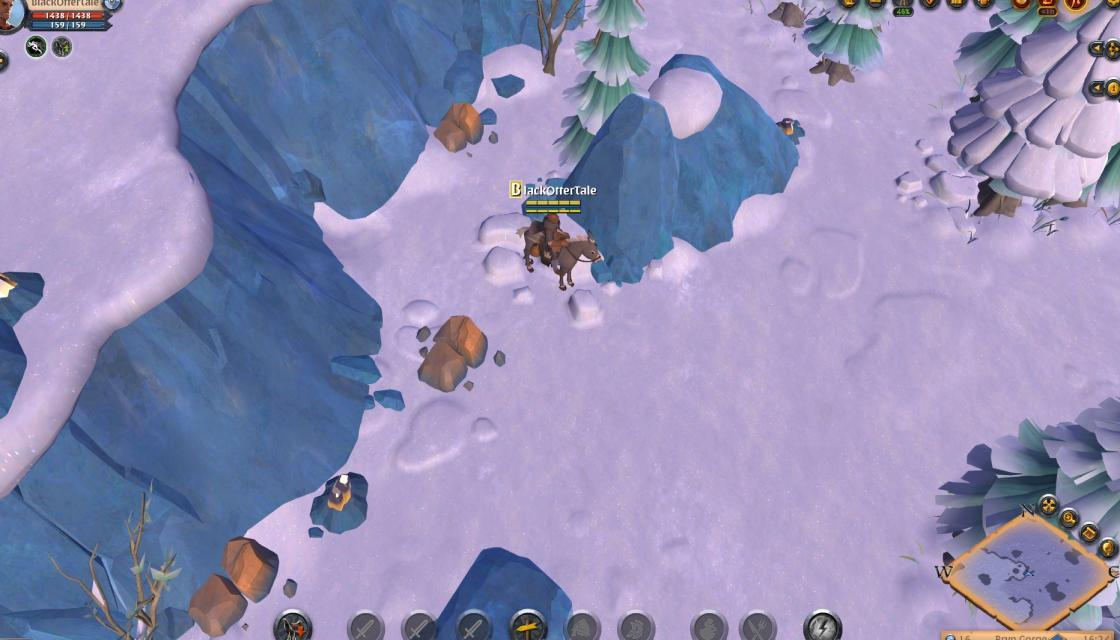copperore: (306, 468, 368, 534), (0, 244, 35, 331), (774, 111, 808, 144)
limestone: (190, 534, 280, 636), (408, 308, 493, 395), (427, 97, 486, 150)
